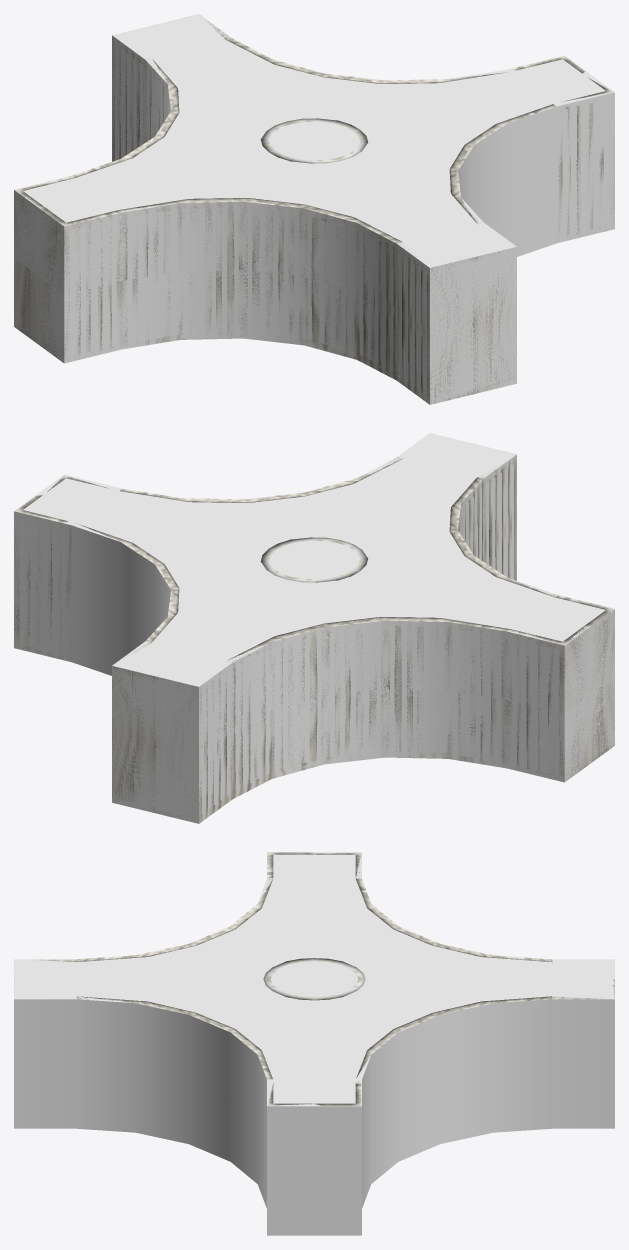
The picture shows the model from 3 angles, top to bottom: view 1: azimuth 30°, elevation 25°; view 2: azimuth 150°, elevation 25°; view 3: azimuth 270°, elevation 25°; orthographic projection. The views are drawn at different scales.
Parts seen in each view (by area): view 1: object5aura, object5aura1, object5detail; view 2: object5aura, object5aura1, object5detail; view 3: object5aura, object5aura1, object5detail.
Part boxes in pixels (left/top/right/bottom): object5aura: left=14, top=35, right=614, bottom=404; object5aura1: left=14, top=14, right=614, bottom=267; object5detail: left=14, top=15, right=614, bottom=404; object5aura: left=14, top=455, right=614, bottom=823; object5aura1: left=14, top=433, right=613, bottom=686; object5detail: left=14, top=433, right=614, bottom=823; object5aura: left=14, top=999, right=614, bottom=1235; object5aura1: left=14, top=852, right=614, bottom=1106; object5detail: left=14, top=852, right=614, bottom=1105.
Bounding box in the file's own units: 59.26 × 14.08 × 59.26.
6 materials, 6 textured.
